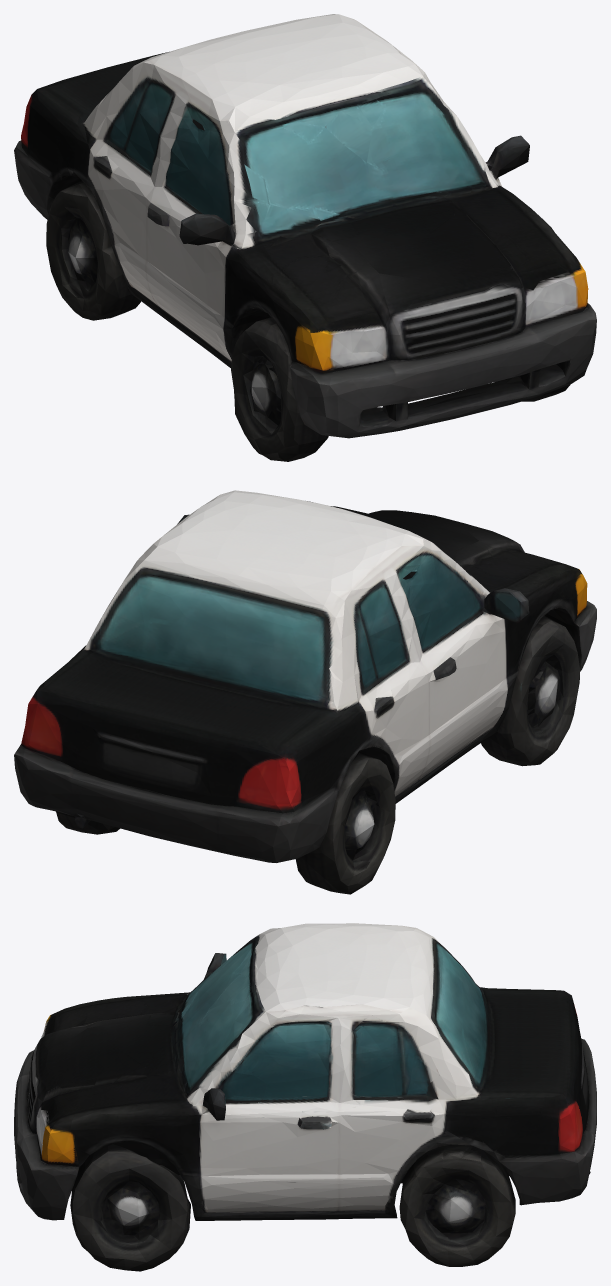
The model's file is retired_cruiser.glb.
3 views of the same model, one above another, from view 1: azimuth 30°, elevation 25°; view 2: azimuth 150°, elevation 25°; view 3: azimuth 270°, elevation 25° (orthographic). The views are drawn at different scales.
Parts seen in each view (by area): view 1: geometry_0; view 2: geometry_0; view 3: geometry_0.
Part boxes in pixels (x1,y1,x2,y2): geometry_0: [14, 14, 596, 461]; geometry_0: [14, 490, 596, 894]; geometry_0: [14, 923, 596, 1271].
Size of the model in its own units: 0.615 by 0.4783 by 0.9984.
1 material, 1 textured.
